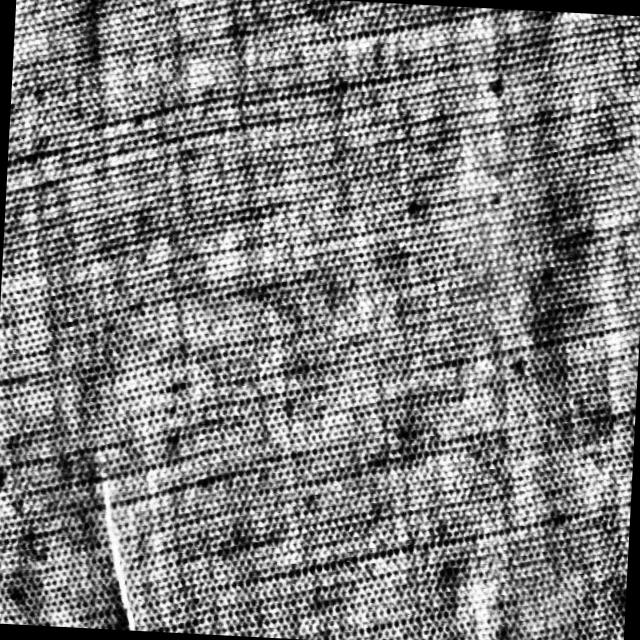gray stitch: (88, 454, 150, 630)
